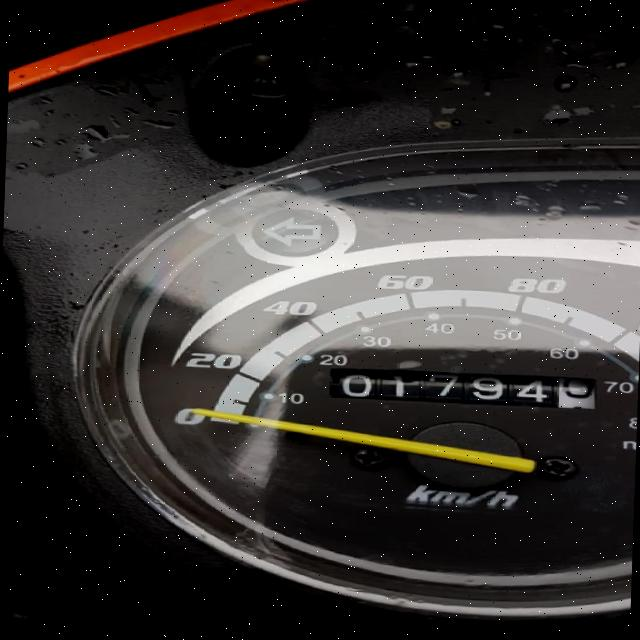odometer: (322, 367, 604, 418)
